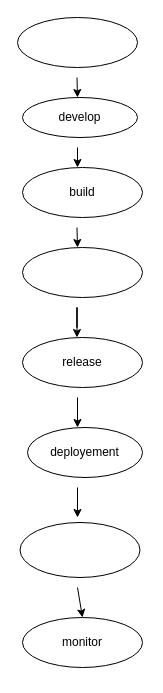
The diagram is 163 pixels wide and 693 high, and some of its shapes have lost their labels. The shapes that lost their labels are listed below. From the top down, each one's box as (x1, y1, x2, y2) in pixels, then its label:
(16, 16, 138, 68): plane
(22, 246, 142, 298): test
(19, 522, 140, 578): operate
